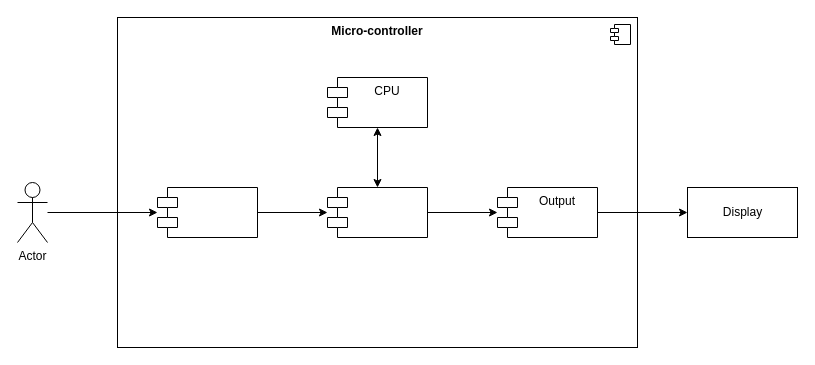
Some shapes in this 815 by 365 pixel diagram are drawn without their labels. Here are the shapes that lost their labels. From the top down, the box of each, then its label:
(156, 186, 258, 238): Input
(326, 186, 428, 238): Memory
